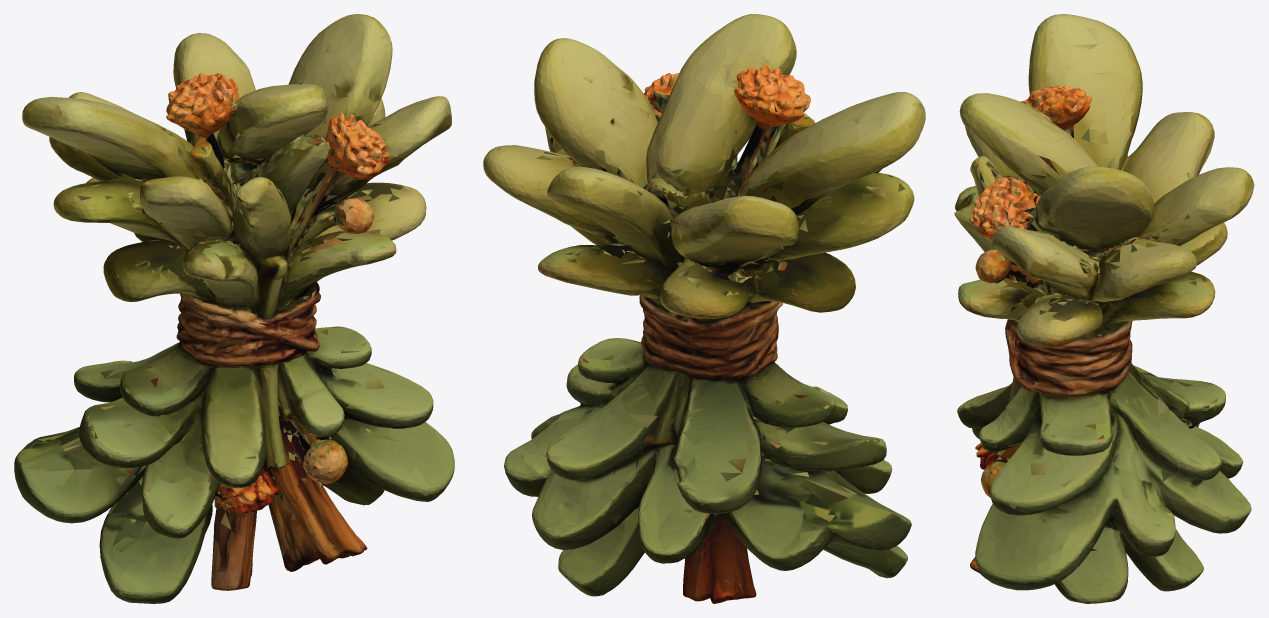
File: herbalist-herb-bundle.glb
3 renders of one model, left to right at view 1: azimuth 30°, elevation 25°; view 2: azimuth 150°, elevation 25°; view 3: azimuth 270°, elevation 25°, orthographic. The views are drawn at different scales.
Parts seen in each view (by area): view 1: geometry_0; view 2: geometry_0; view 3: geometry_0.
Part boxes in pixels (x1=…): geometry_0: x1=14, y1=14, x2=454, y2=603; geometry_0: x1=483, y1=14, x2=925, y2=603; geometry_0: x1=954, y1=14, x2=1254, y2=603.
Size of the model in its own units: 1.63 by 2 by 1.16.
Materials: 1 (1 with a texture image).
